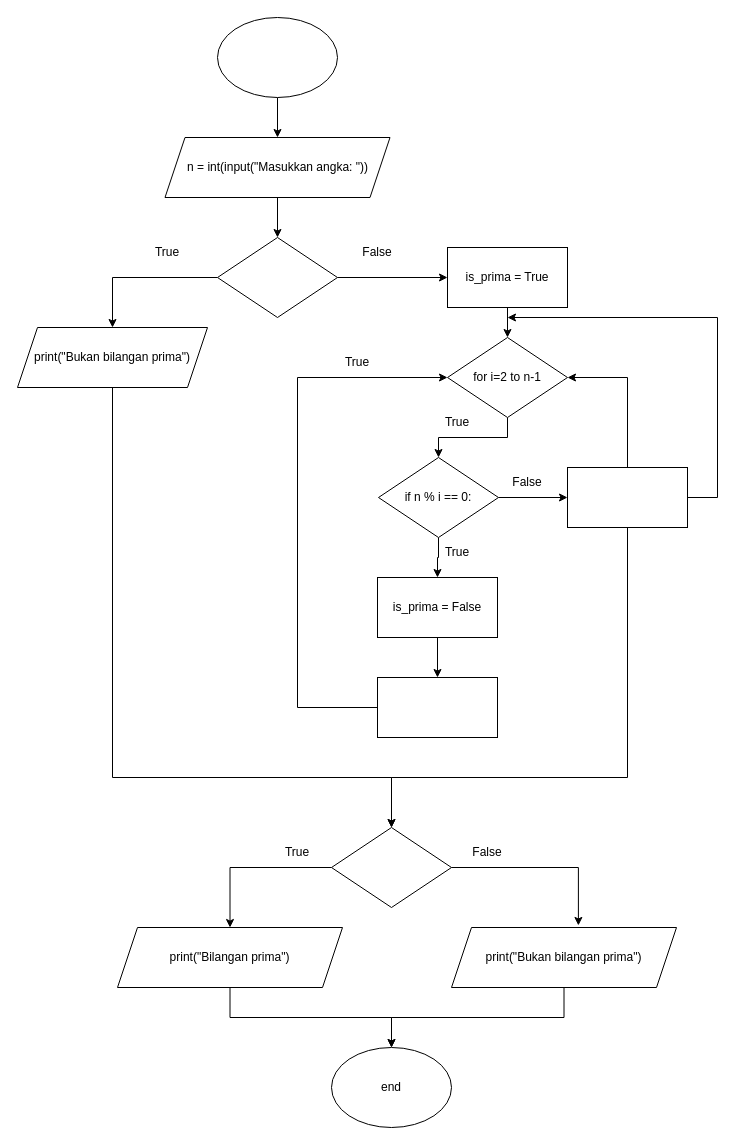
Image size: 743x1145. Some labels were removed from this diagram. The centre of each missing label's shape, as x and y in pixels:
"break" goes at point 437,707.
"end for i" goes at point 627,497.
"if is_prima:" goes at point 391,867.
"if n <= 1:" goes at point 277,277.
"start" goes at point 277,57.
